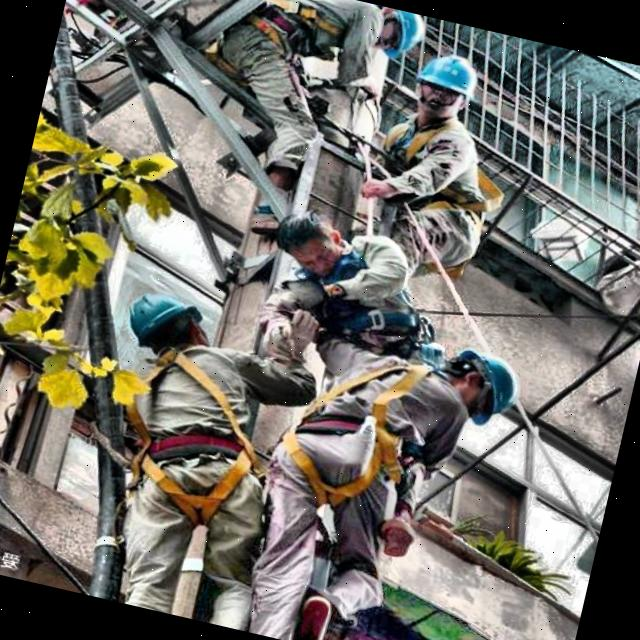helmet: (120, 286, 224, 369), (434, 346, 532, 431), (404, 44, 487, 133), (352, 4, 434, 64)
